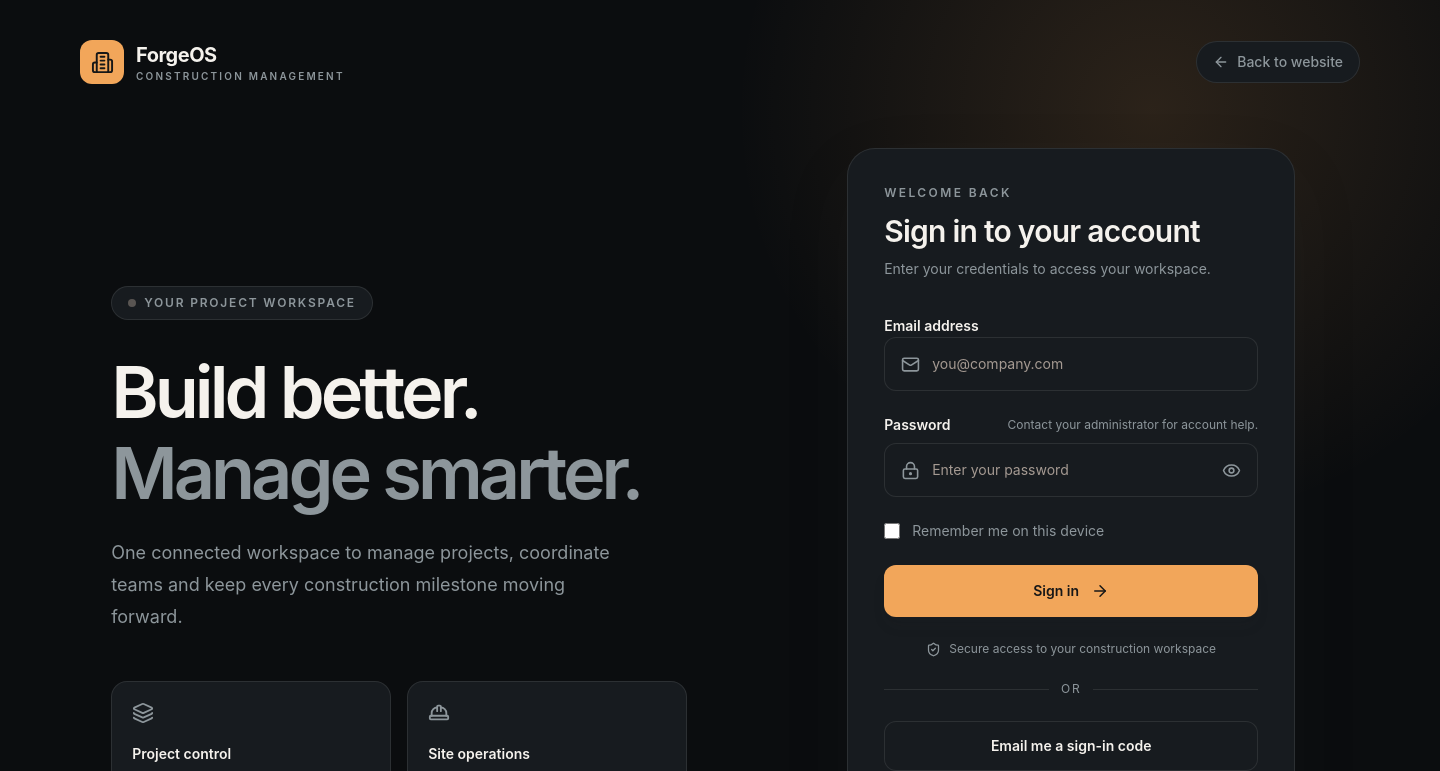
Scenario: LoginPage — failed password login › a non-401 failure surfaces the raw server message
The image size is (1440, 771).
Type "asha@forge.test" into the field labelled "Email address".
click(1087, 364); type("asha@forge.test")  # box [932, 338, 1241, 390]
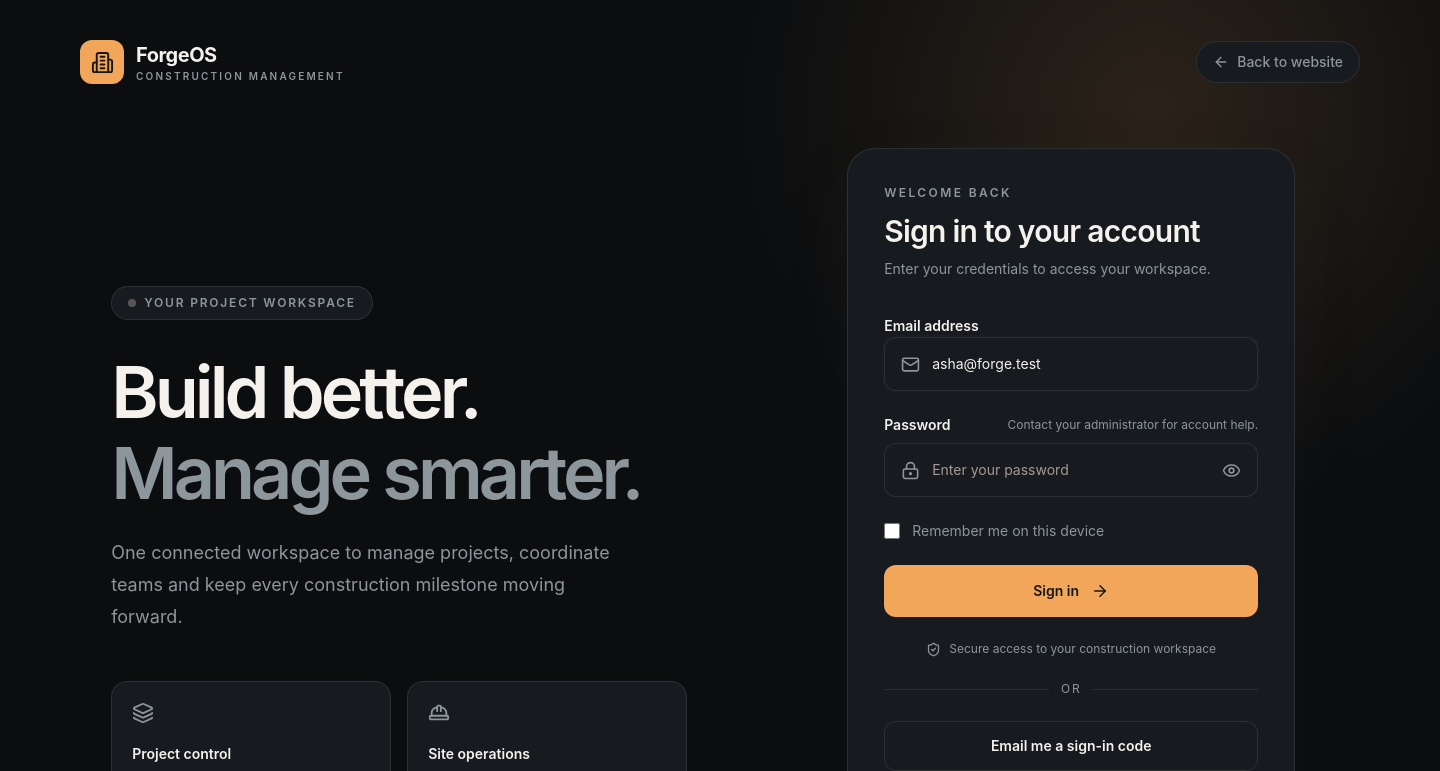
Type "secret123" into the password field labelled "Password".
click(1071, 470); type("secret123")  # box [932, 444, 1210, 496]
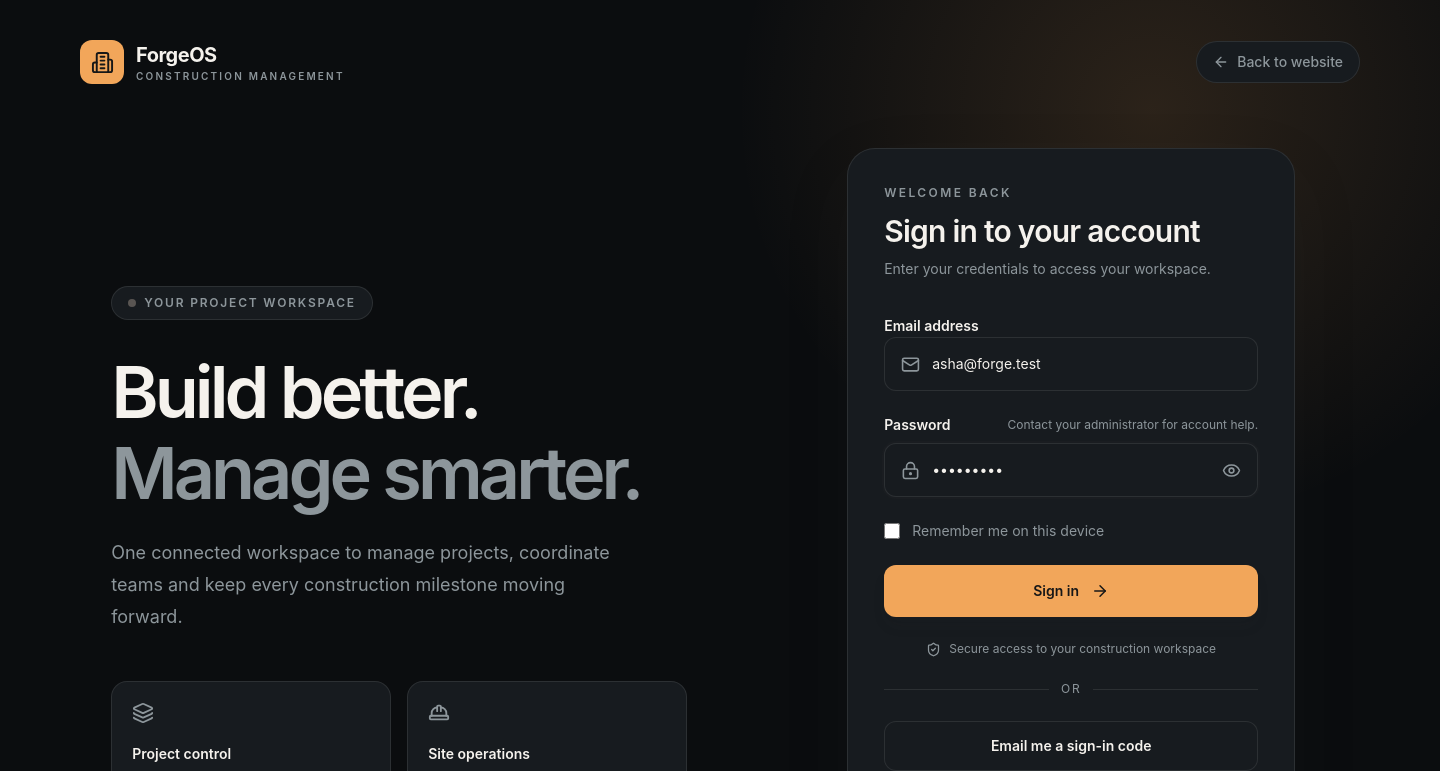
Click the button "Sign in".
click(1071, 591)  # box [884, 565, 1258, 617]
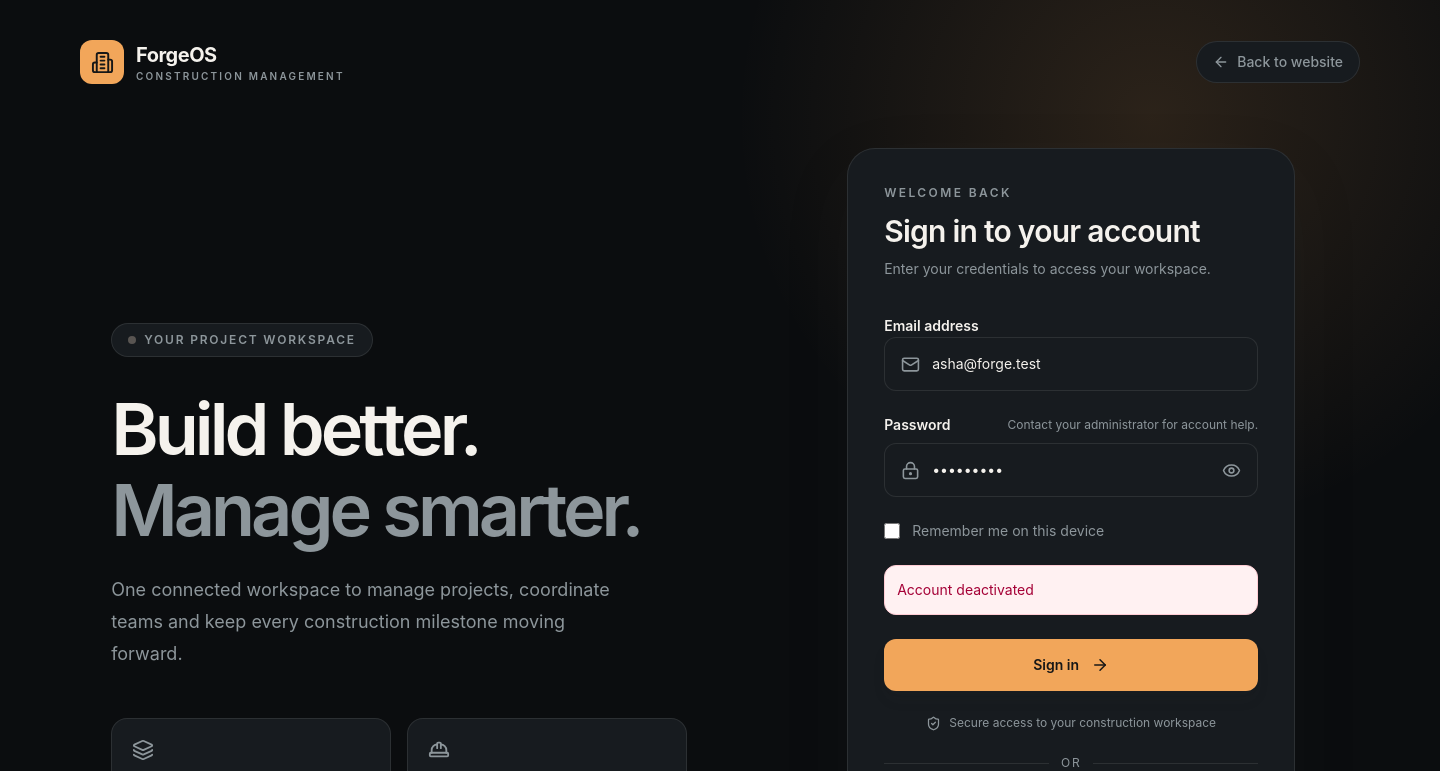
Result: the message reads "Account deactivated" at [897, 581, 1034, 598]
